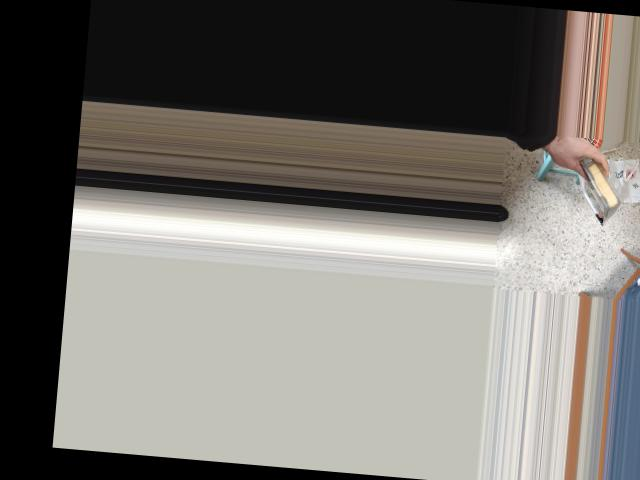cheese: (568, 140, 627, 227)
